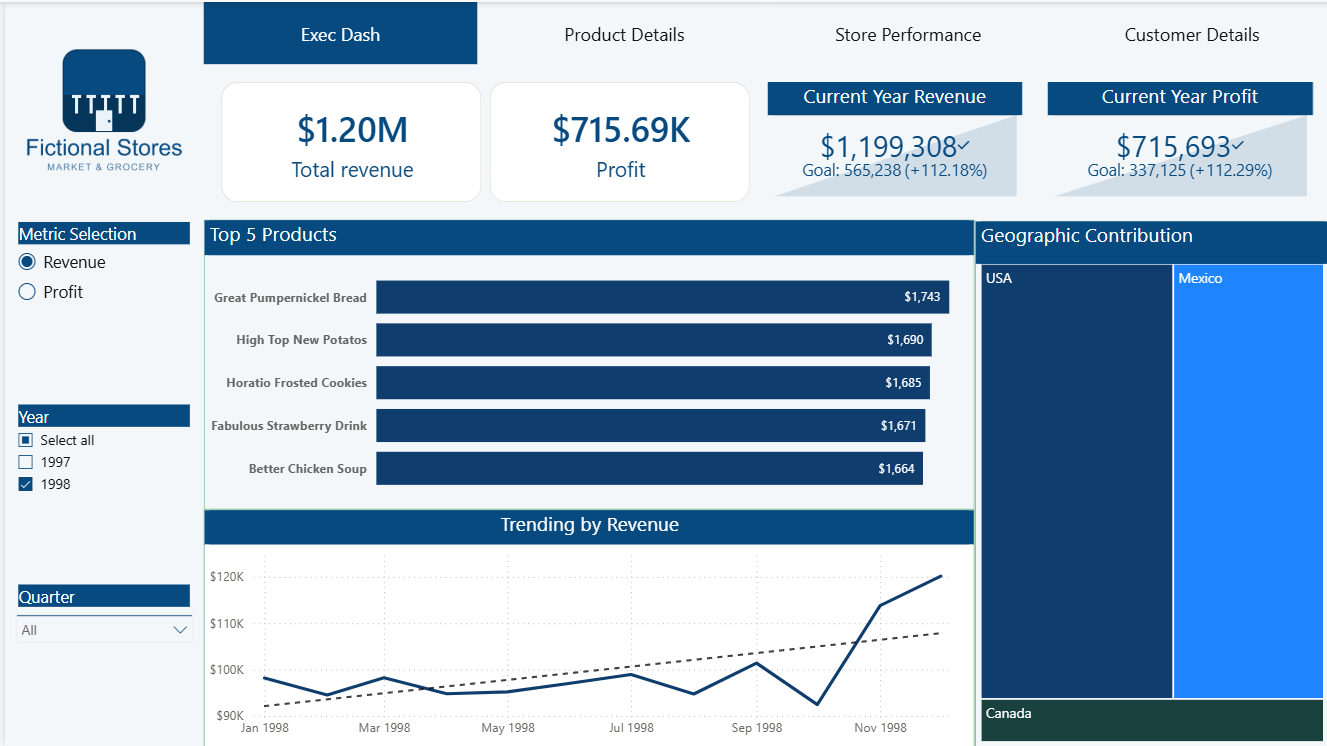

The page's visual inventory and layout, read from the dashboard file:
{"tool":"powerbi","page":{"name":"Exec Dash","canvas":[1280,720],"ordinal":0},"visuals":[{"type":"slicer","fields":{"Values":["Metric Selection.Metric Selection"]},"box":[0,207.8,191.4,174.3],"z":0,"group":"g1"},{"type":"clusteredBarChart","title":"Top 5 Products","fields":{"Category":["Products_Lookup.product_name"],"Y":["Measure.Total revenue"]},"box":[192,210.5,743.8,280.2],"z":0},{"type":"treemap","title":"Geographic Contribution","fields":{"Group":["Customers_Lookup.customer_country","Customers_Lookup.customer_state_province"],"Values":["Measure.Total revenue"]},"box":[936.4,210.6,343.1,509.2],"z":1000},{"type":"slicer","fields":{"Values":["Calendar_Lookup.Year"]},"box":[0,383.6,191.4,150],"z":1000,"group":"g1"},{"type":"lineChart","fields":{"Category":["Calendar_Lookup.Start of Quarter","Calendar_Lookup.Start of Month","Calendar_Lookup.Start of Week"],"Y":["Measure.Total revenue"]},"box":[192,489.2,743.8,230.4],"z":2000},{"type":"slicer","fields":{"Values":["Calendar_Lookup.Quarter"]},"box":[0,557.1,191.4,150],"z":2000,"group":"g1"},{"type":"pageNavigator","box":[191.4,0,1088.6,60],"z":3000},{"type":"cardVisual","fields":{"Data":["Measure.Total revenue","Measure.Profit"]},"box":[191.4,60,544.3,150],"z":4000},{"type":"kpi","title":"Current Year Profit","fields":{"Goal":["Measure.Previous year Profit"],"Indicator":["Measure.Profit"],"TrendLine":["Calendar_Lookup.Year"]},"box":[1005.7,77.1,255.7,115.7],"z":5000},{"type":"kpi","title":"Current Year Revenue","fields":{"Goal":["Measure.Previous year Revenue"],"Indicator":["Measure.Total revenue"],"TrendLine":["Calendar_Lookup.Year"]},"box":[735.7,77.1,245.7,115.7],"z":6000},{"type":"group","id":"g1","title":"Slicer pane","box":[0,207.8,191.4,499.3],"z":7000},{"type":"image","box":[0,1.4,191.4,208.6],"z":8000}]}

Visuals, with their boxes in screenshot pixels (x1, y1, x2, y2), scaled from the page's 1280x720 canvas onto the 1327x746 screenshot:
slicer - Metric Selection.Metric Selection: x1=0 y1=215 x2=198 y2=396
"Top 5 Products" clusteredBarChart: x1=199 y1=218 x2=970 y2=508
"Geographic Contribution" treemap: x1=971 y1=218 x2=1326 y2=745
slicer - Calendar_Lookup.Year: x1=0 y1=397 x2=198 y2=553
lineChart - Calendar_Lookup.Start of Quarter x Calendar_Lookup.Start of Month: x1=199 y1=507 x2=970 y2=745
slicer - Calendar_Lookup.Quarter: x1=0 y1=577 x2=198 y2=733
pageNavigator: x1=198 y1=0 x2=1326 y2=62
cardVisual - Measure.Total revenue x Measure.Profit: x1=198 y1=62 x2=763 y2=218
"Current Year Profit" kpi: x1=1043 y1=80 x2=1308 y2=200
"Current Year Revenue" kpi: x1=763 y1=80 x2=1017 y2=200
"Slicer pane" group: x1=0 y1=215 x2=198 y2=733
image: x1=0 y1=1 x2=198 y2=218
